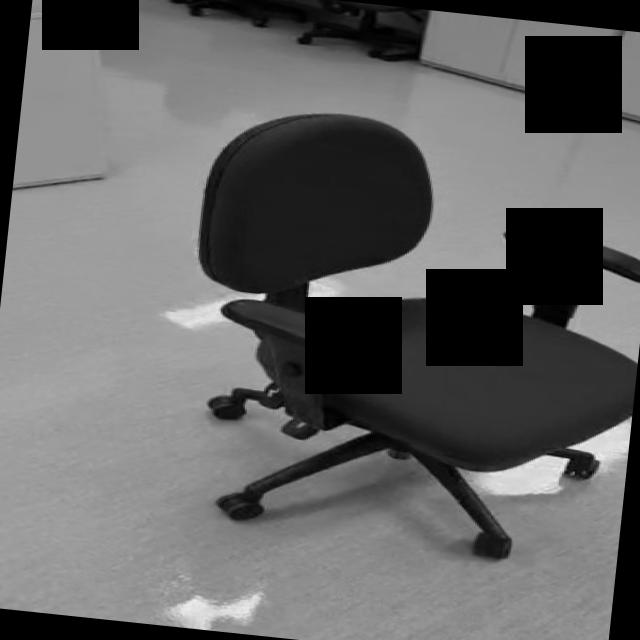cadeira-azul: (165, 99, 640, 568)
